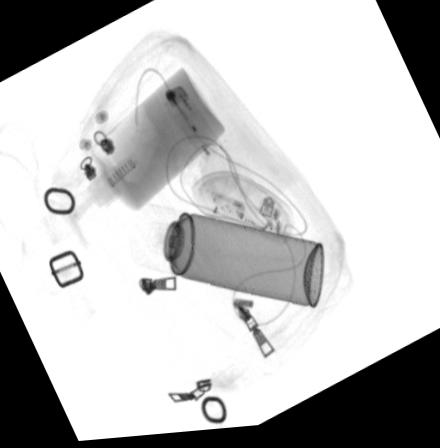Lighter: (158, 87, 222, 162)
Sprayer: (128, 204, 323, 312)
